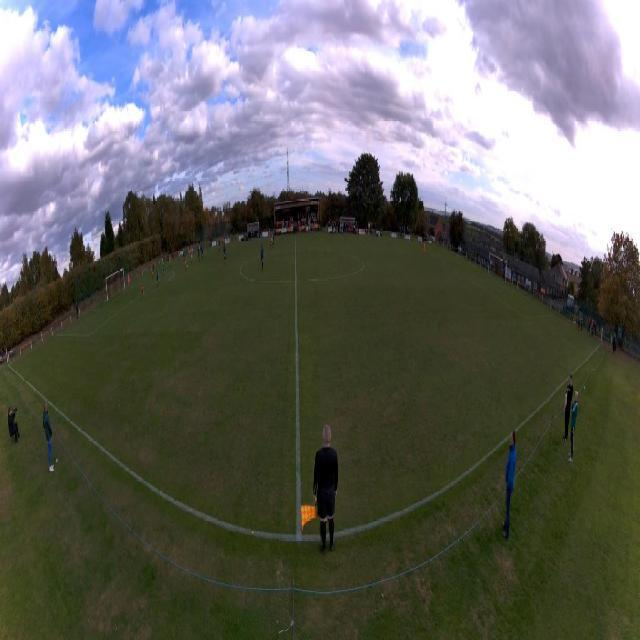ball: (187, 265, 188, 267)
player: (260, 244, 265, 271), (223, 245, 227, 263), (270, 232, 274, 249), (141, 281, 144, 301), (184, 255, 187, 273), (156, 270, 159, 288), (198, 246, 201, 264), (423, 241, 426, 258), (218, 237, 221, 253), (127, 273, 130, 288), (201, 246, 204, 261), (151, 265, 154, 279), (191, 246, 193, 265), (243, 231, 246, 243), (273, 229, 275, 246), (163, 262, 165, 278), (170, 254, 172, 268), (193, 242, 195, 256), (183, 249, 185, 261), (222, 236, 224, 248), (178, 250, 180, 261), (223, 240, 225, 248)
